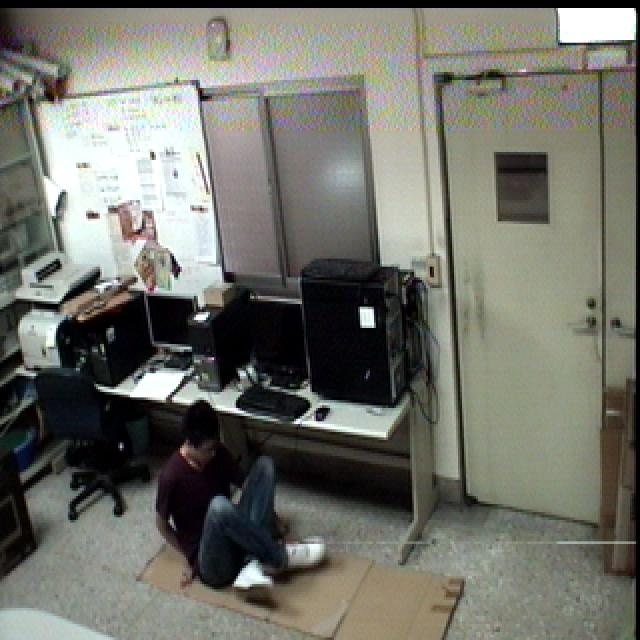sit: (151, 399, 333, 611)
